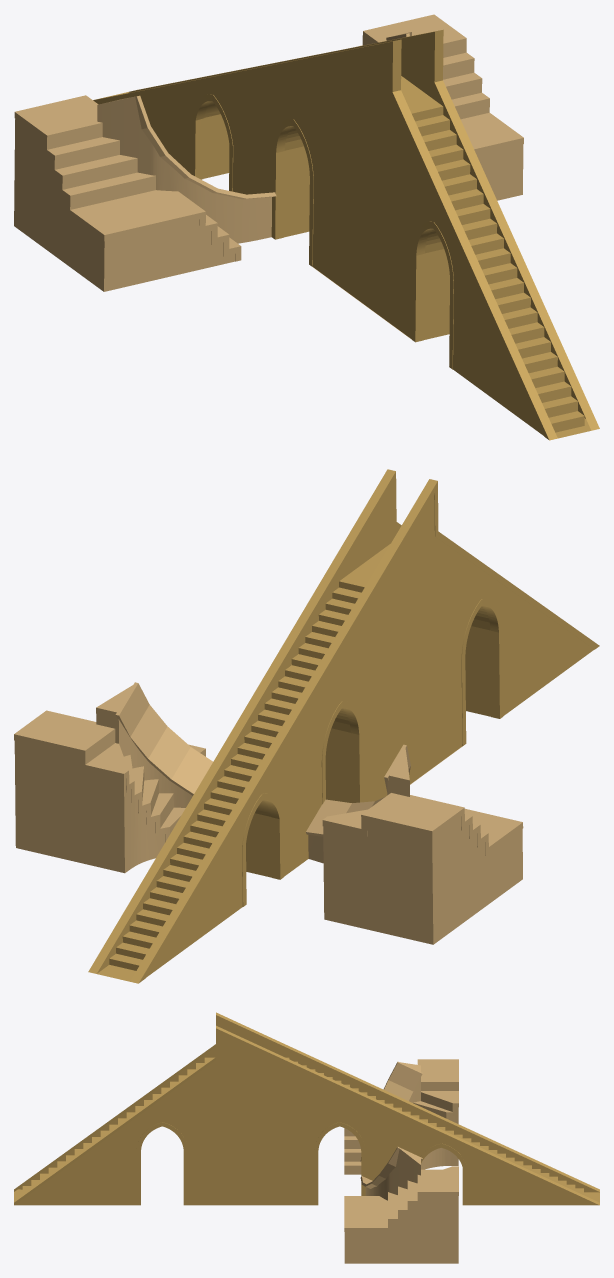
Rendered from samrat.glb.
3 renders of one model, top to bottom at view 1: azimuth 30°, elevation 25°; view 2: azimuth 150°, elevation 25°; view 3: azimuth 270°, elevation 25°, orthographic. The views are drawn at different scales.
Visible parts, largest first — view 1: Object.001, Object, Object.002; view 2: Object.001, Object, Object.002; view 3: Object.001, Object, Object.002.
Part boxes in pixels (x1=…): Object.001: x1=93, y1=29, x2=599, y2=440; Object: x1=14, y1=14, x2=523, y2=339; Object.002: x1=47, y1=32, x2=473, y2=243; Object.001: x1=88, y1=469, x2=599, y2=983; Object: x1=14, y1=682, x2=523, y2=944; Object.002: x1=96, y1=685, x2=471, y2=863; Object.001: x1=14, y1=1012, x2=599, y2=1205; Object: x1=344, y1=1059, x2=458, y2=1263; Object.002: x1=365, y1=1062, x2=420, y2=1200.
Bounding box in the file's own units: 108 × 69.89 × 206.
